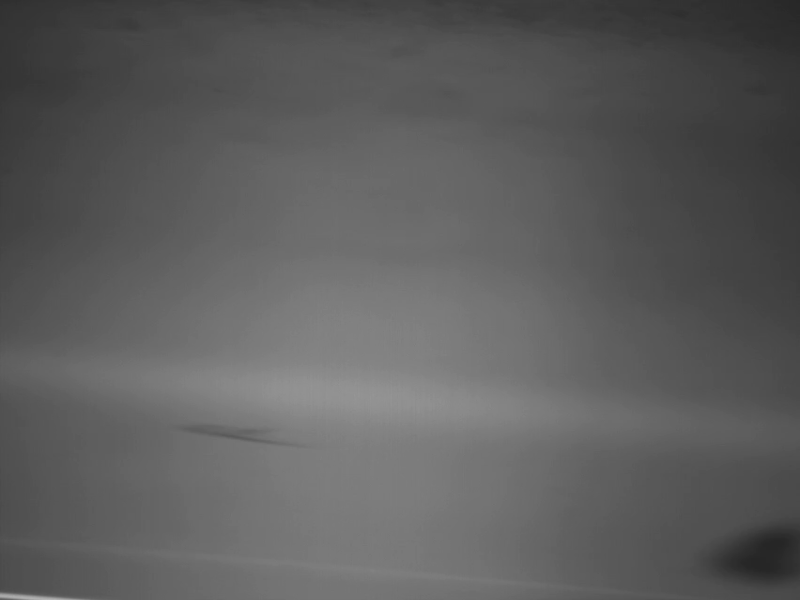bead: (701, 519, 800, 592)
fiber: (170, 417, 311, 451)
